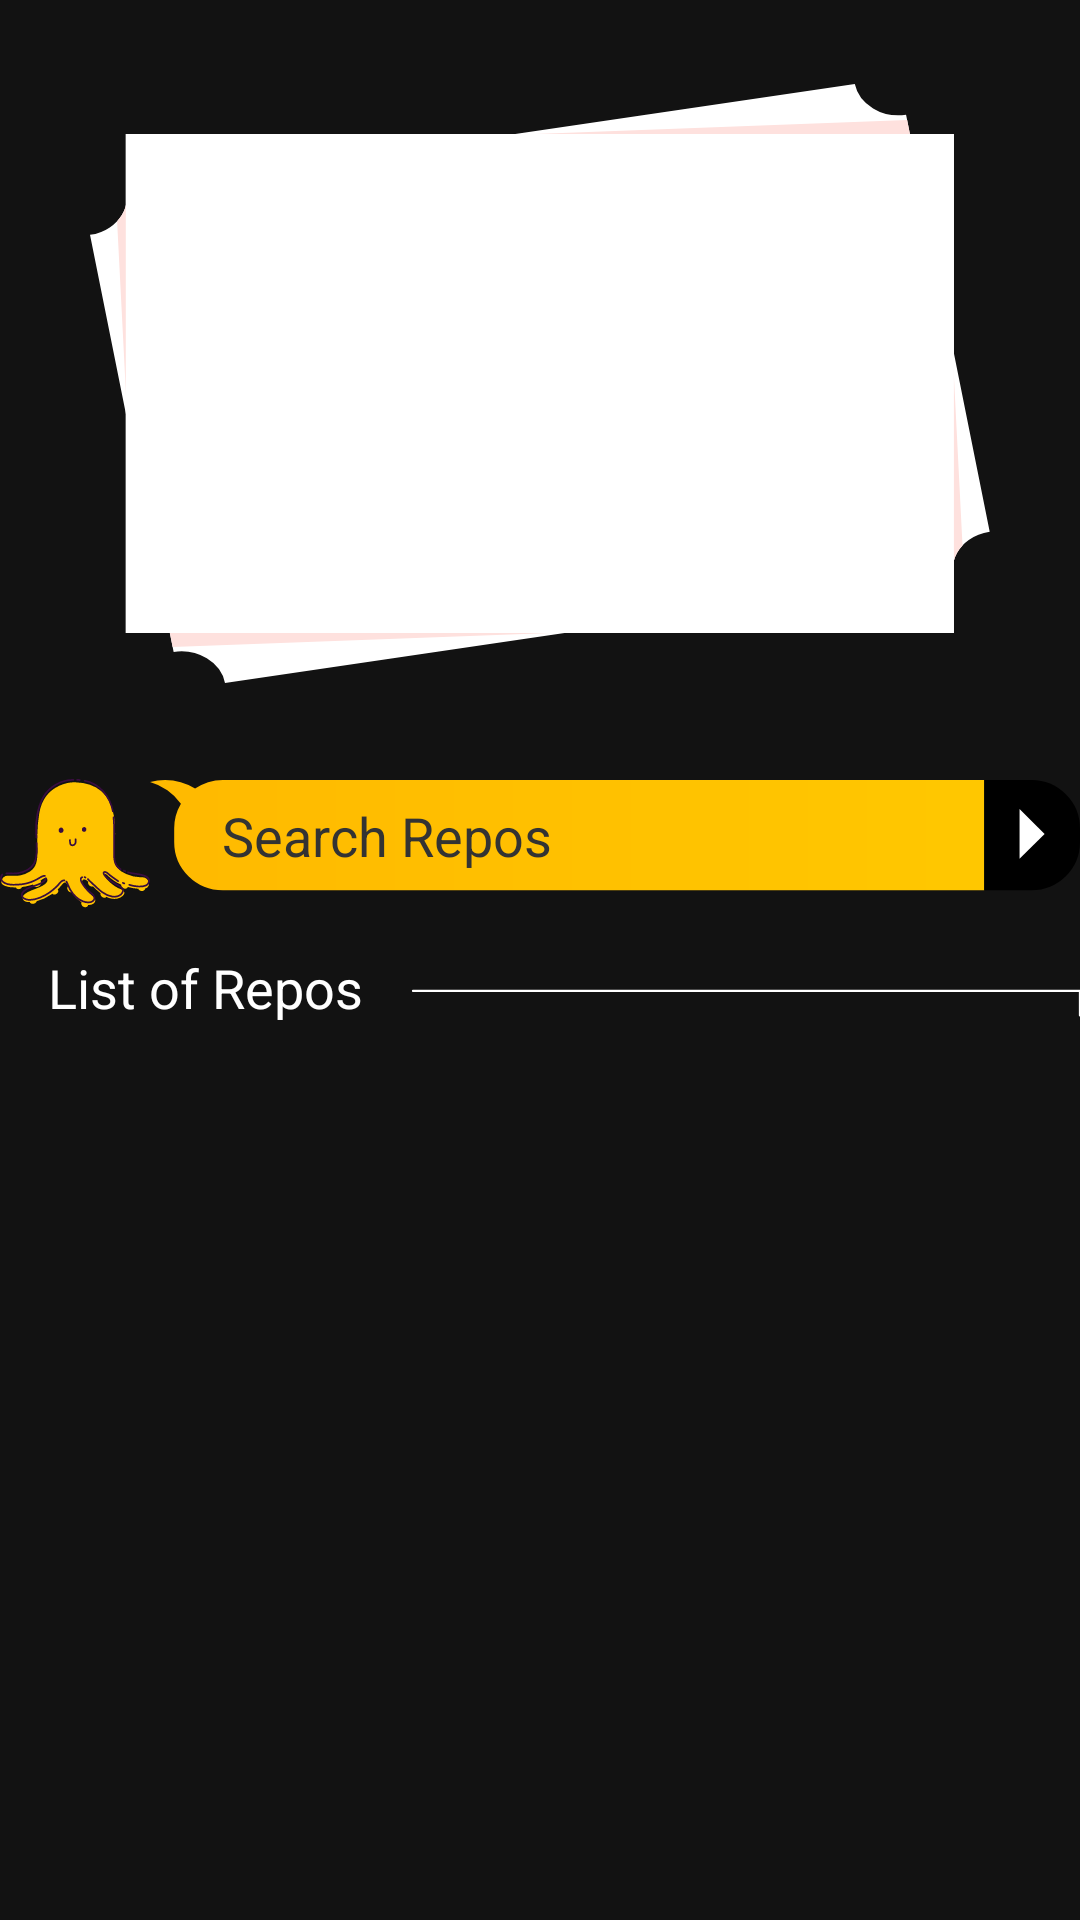

Point at icon controls on the screen. Image size 1080 x 1920, points as (x,y).
pulpoicono: (75,843)
